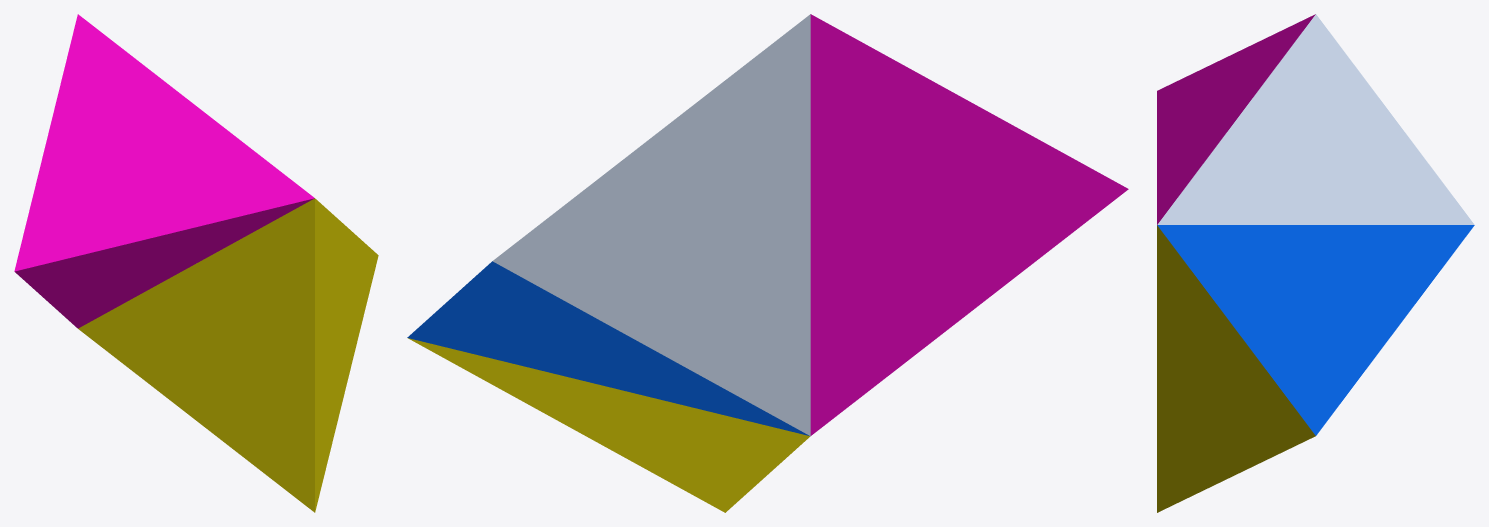
File: TetragonalDisphenoidal_4_5.glb
3 renders of one model, left to right at view 1: azimuth 30°, elevation 25°; view 2: azimuth 150°, elevation 25°; view 3: azimuth 270°, elevation 25°, orthographic. The views are drawn at different scales.
Bounding box in the file's own units: 6 × 6 × 4.
